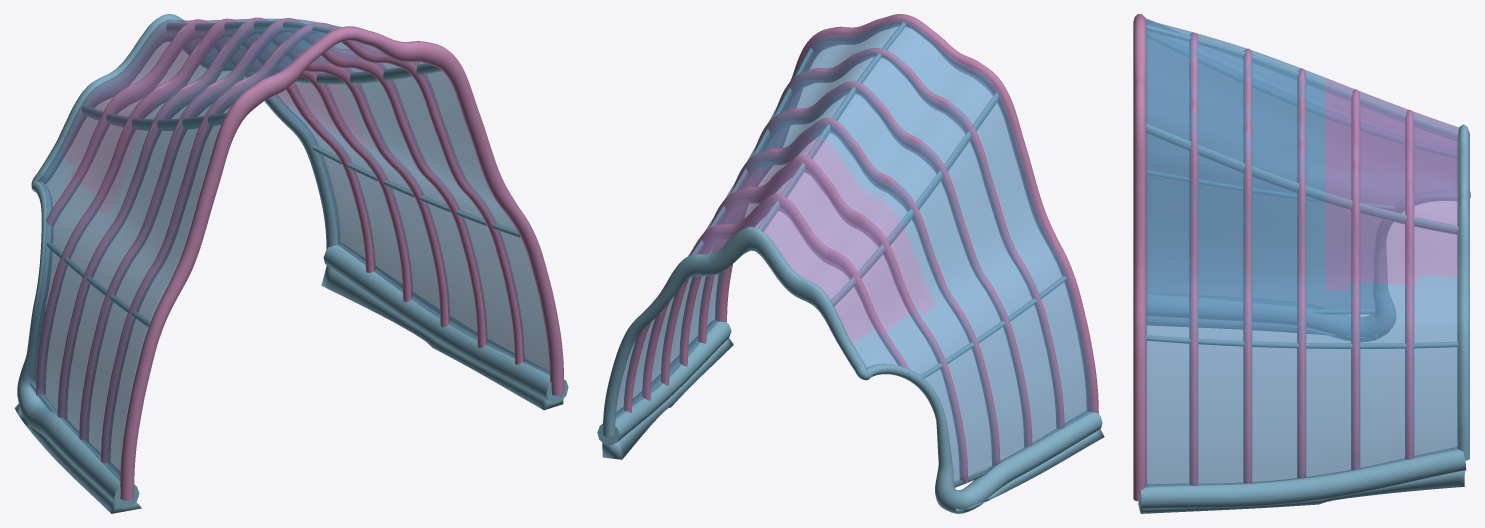
The model's file is cove-roof-variant.glb.
The picture shows the model from 3 angles, left to right: view 1: azimuth 30°, elevation 25°; view 2: azimuth 150°, elevation 25°; view 3: azimuth 270°, elevation 25°; orthographic projection. The views are drawn at different scales.
Visible parts, largest first — view 1: Harbor / continuous translucent shell hall, Harbor / curved shell structural rib, Harbor / continuous entrance runner jamb rear arch, Harbor / curved shell structural rib.001, Harbor / curved shell structural rib.002, Harbor / curved shell structural rib.003, Harbor / curved shell structural rib.004, Harbor / shell grown footing.001, Harbor / corner structural rib joined to rim, Harbor / continuous grounded runner socket right, Harbor / continuous grounded runner socket left, Harbor / shell longitudinal seam.004 (+4 smaller); view 2: Harbor / continuous translucent shell hall, Harbor / continuous entrance runner jamb rear arch, Harbor / curved shell structural rib, Harbor / curved shell structural rib.002, Harbor / curved shell structural rib.003, Harbor / curved shell structural rib.001, Harbor / curved shell structural rib.004, Harbor / corner structural rib joined to rim, Harbor / shell grown footing.001, Harbor / shell longitudinal seam.004, Harbor / continuous grounded runner socket right, Harbor / shell longitudinal seam.003 (+3 smaller); view 3: Harbor / continuous translucent shell hall, Harbor / continuous entrance runner jamb rear arch, Harbor / shell grown footing.001, Harbor / curved shell structural rib, Harbor / curved shell structural rib.001, Harbor / curved shell structural rib.002, Harbor / curved shell structural rib.003, Harbor / curved shell structural rib.004, Harbor / corner structural rib joined to rim, Harbor / shell longitudinal seam.002, Harbor / shell longitudinal seam.003, Harbor / shell longitudinal seam.004 (+4 smaller).
Boxes of the visible parts, <box> form: Harbor / continuous translucent shell hall: <box>27,18,549,481</box>; Harbor / curved shell structural rib: <box>120,26,564,500</box>; Harbor / continuous entrance runner jamb rear arch: <box>17,14,340,508</box>; Harbor / curved shell structural rib.001: <box>100,22,524,462</box>; Harbor / curved shell structural rib.002: <box>79,18,487,441</box>; Harbor / curved shell structural rib.003: <box>57,17,450,419</box>; Harbor / curved shell structural rib.004: <box>36,18,412,395</box>; Harbor / shell grown footing.001: <box>323,243,568,403</box>; Harbor / corner structural rib joined to rim: <box>46,19,375,272</box>; Harbor / continuous grounded runner socket right: <box>321,265,563,410</box>; Harbor / continuous grounded runner socket left: <box>14,404,141,513</box>; Harbor / shell longitudinal seam.004: <box>82,105,226,130</box>; Harbor / continuous translucent shell hall: <box>615,20,1092,487</box>; Harbor / continuous entrance runner jamb rear arch: <box>602,226,1102,513</box>; Harbor / curved shell structural rib: <box>715,14,1098,413</box>; Harbor / curved shell structural rib.002: <box>679,81,1032,447</box>; Harbor / curved shell structural rib.003: <box>660,118,1000,465</box>; Harbor / curved shell structural rib.001: <box>698,48,1064,428</box>; Harbor / curved shell structural rib.004: <box>642,156,968,482</box>; Harbor / corner structural rib joined to rim: <box>623,194,908,412</box>; Harbor / shell grown footing.001: <box>597,320,731,445</box>; Harbor / shell longitudinal seam.004: <box>830,93,998,306</box>; Harbor / continuous grounded runner socket right: <box>602,338,733,459</box>; Harbor / shell longitudinal seam.003: <box>758,22,905,231</box>; Harbor / continuous translucent shell hall: <box>1145,18,1459,487</box>; Harbor / continuous entrance runner jamb rear arch: <box>1147,124,1470,460</box>; Harbor / shell grown footing.001: <box>1138,447,1466,509</box>; Harbor / curved shell structural rib: <box>1133,14,1146,501</box>; Harbor / curved shell structural rib.001: <box>1189,32,1198,485</box>; Harbor / curved shell structural rib.002: <box>1243,48,1252,483</box>; Harbor / curved shell structural rib.003: <box>1297,68,1306,478</box>; Harbor / curved shell structural rib.004: <box>1351,89,1360,470</box>; Harbor / corner structural rib joined to rim: <box>1405,110,1414,459</box>; Harbor / shell longitudinal seam.002: <box>1146,124,1458,234</box>; Harbor / shell longitudinal seam.003: <box>1146,25,1458,141</box>; Harbor / shell longitudinal seam.004: <box>1147,31,1456,158</box>.
Size of the model in its own units: 4.97 by 4.57 by 3.46.
